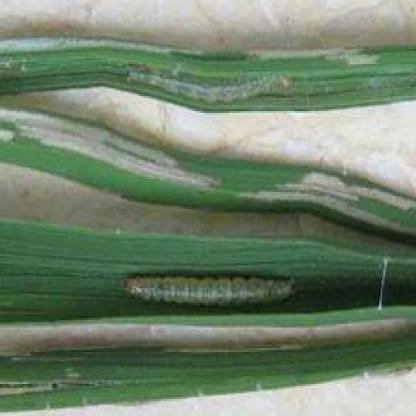leaf-folder: (115, 262, 304, 328), (112, 51, 298, 112)
